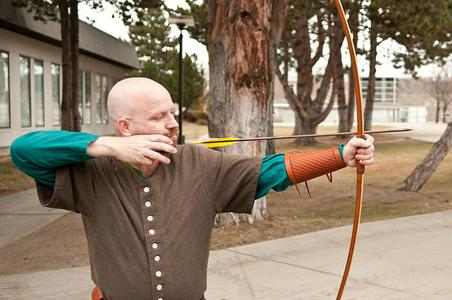person: (8, 76, 375, 300)
